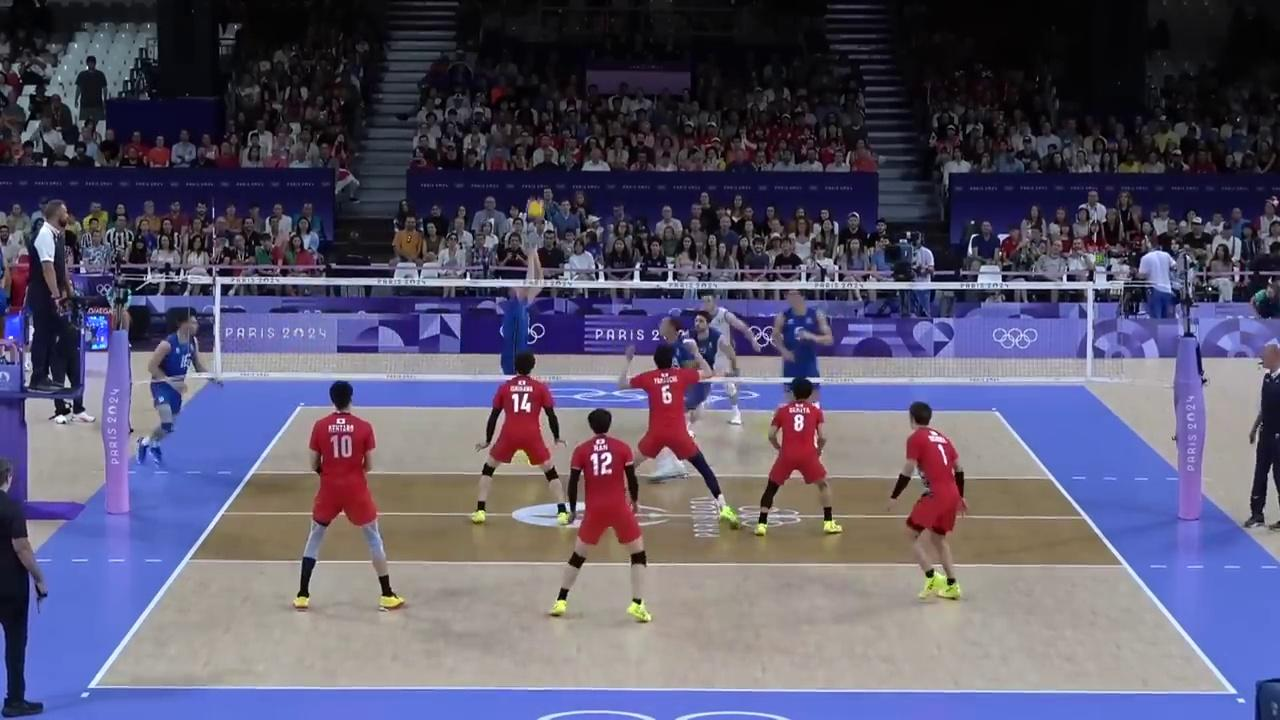ball: (528, 199, 543, 217)
